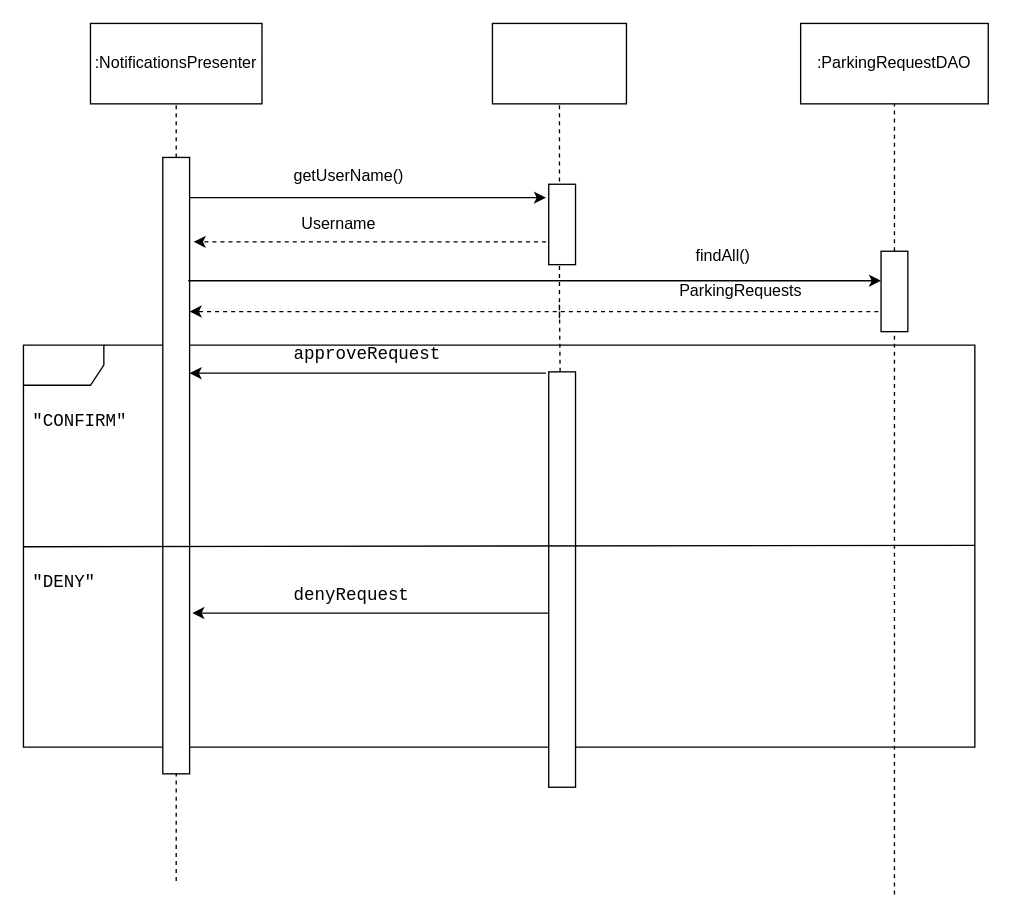
The diagram is 1012 pixels wide and 919 high, and some of its shapes have lost their labels. Each missing label, with the box of its shape:
:NotificationsView: (491, 22, 626, 104)
opt: (22, 344, 975, 747)
